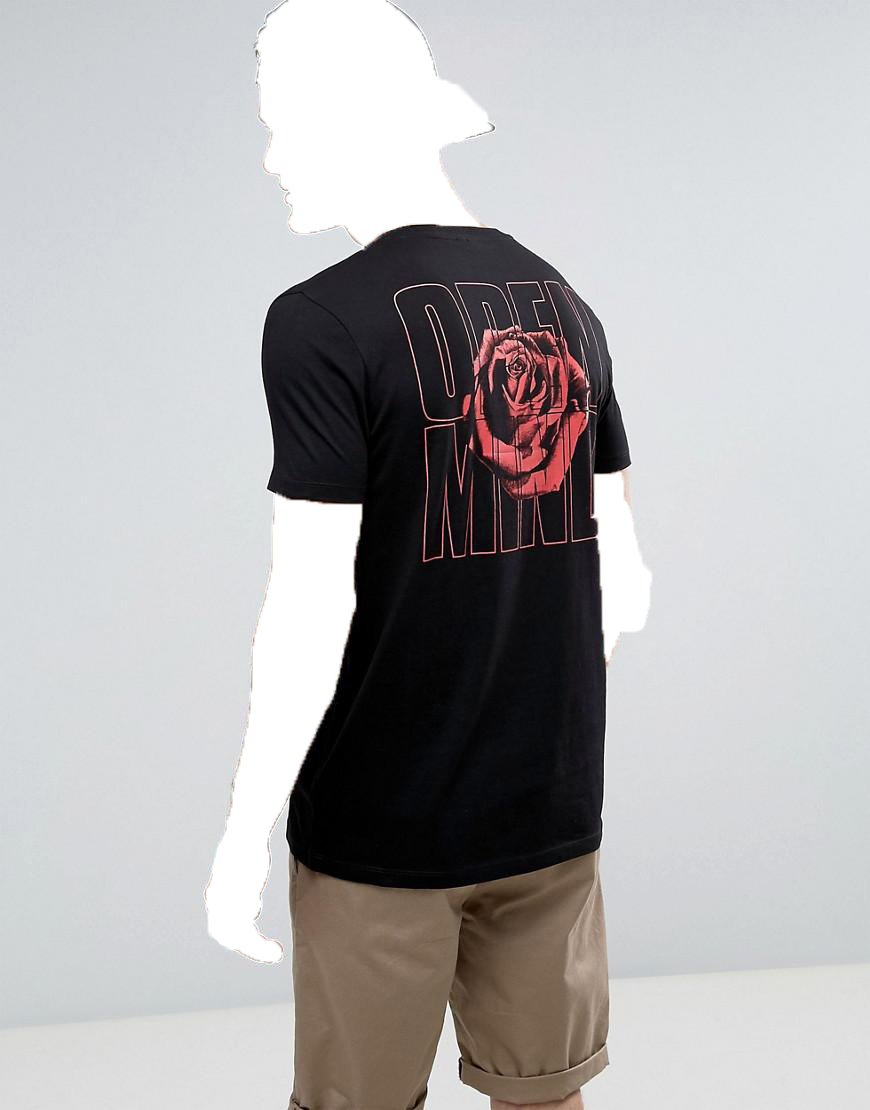teeshirt: (242, 225, 637, 883)
